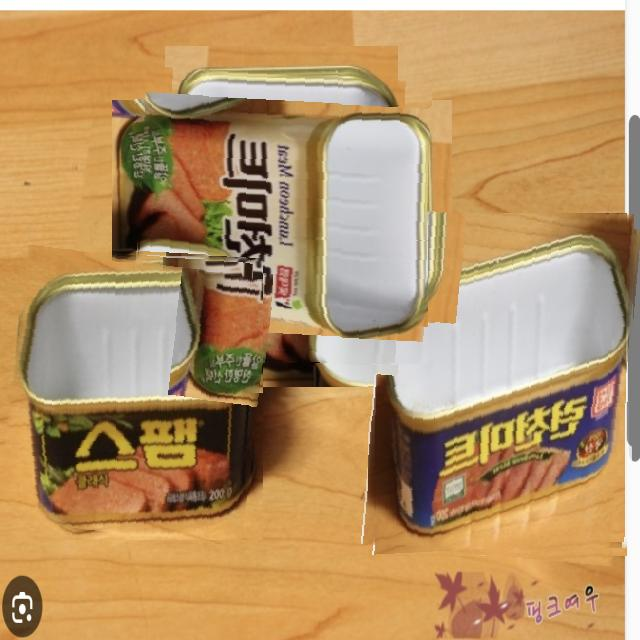recyclable: (368, 214, 634, 562), (135, 70, 428, 363), (2, 252, 263, 540)
